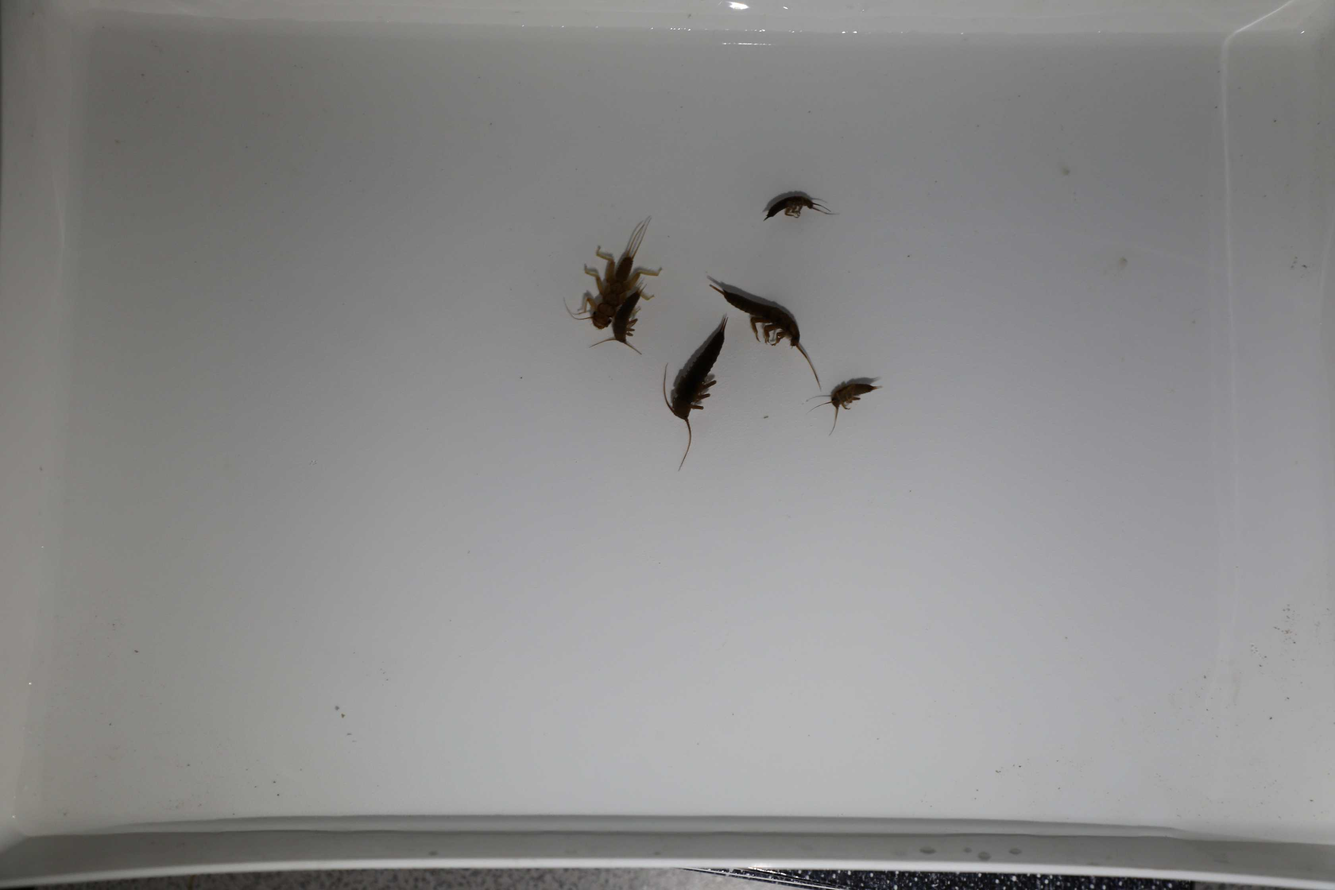Stonefly: (708, 276, 814, 360), (665, 317, 727, 454), (585, 221, 654, 324), (816, 365, 875, 433), (753, 180, 834, 226), (609, 287, 651, 353)
